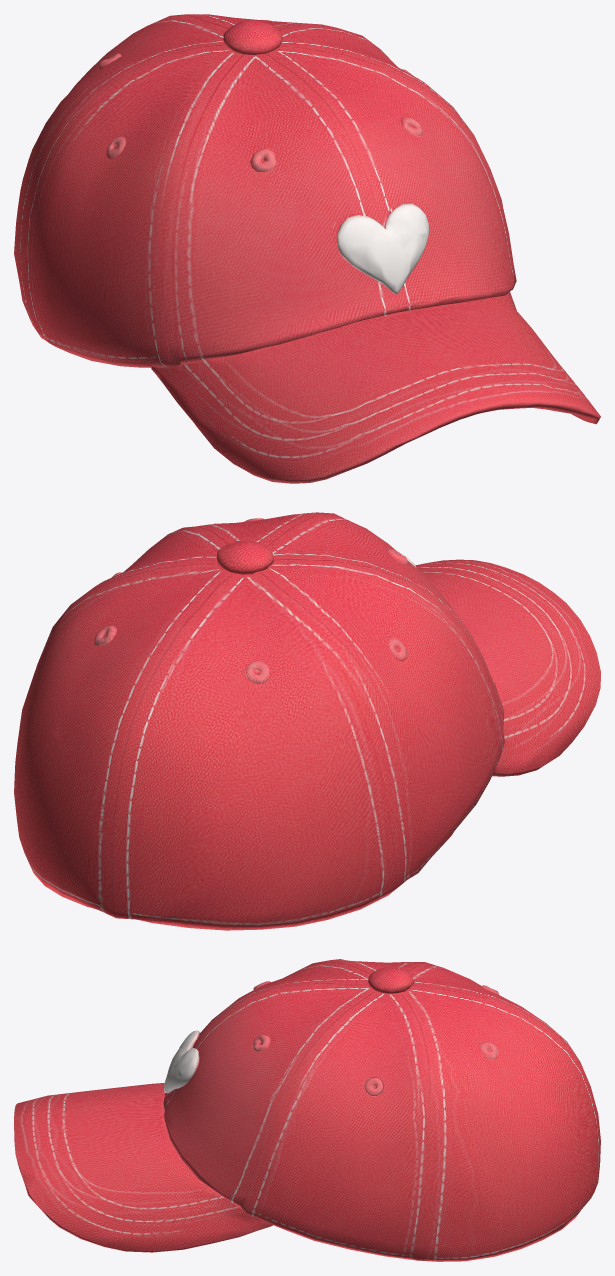
File: cap_pink_meshy.glb
3 views of the same model, one above another, from view 1: azimuth 30°, elevation 25°; view 2: azimuth 150°, elevation 25°; view 3: azimuth 270°, elevation 25° (orthographic). The views are drawn at different scales.
Size of the model in its own units: 0.5728 by 0.4092 by 0.9531.
1 material, 1 textured.
